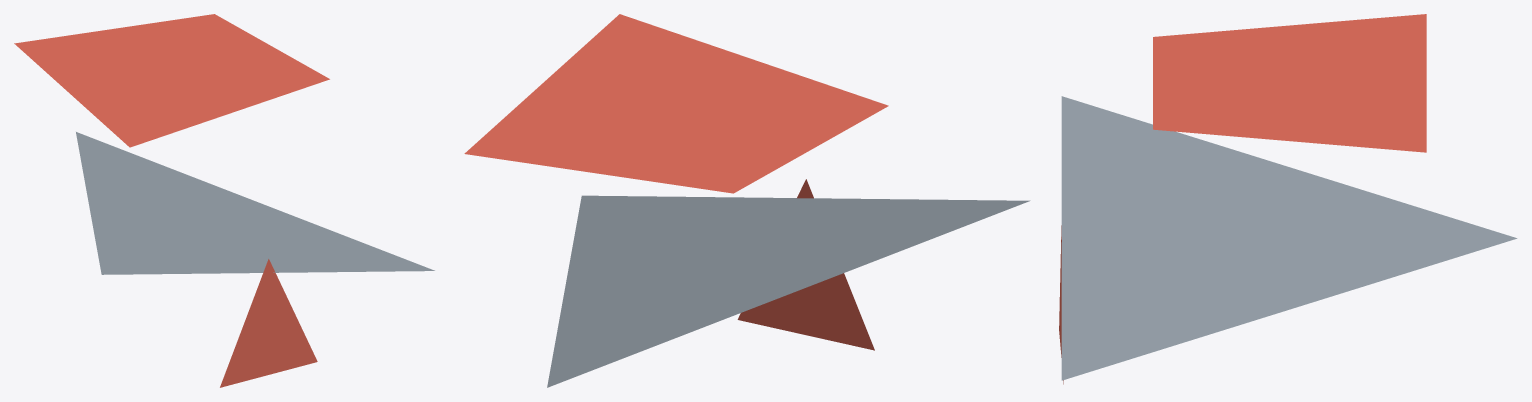
Rendered from SU_PowerPlant_LOD2.glb.
3 views of the same model, side by side, from view 1: azimuth 30°, elevation 25°; view 2: azimuth 150°, elevation 25°; view 3: azimuth 270°, elevation 25° (orthographic). The views are drawn at different scales.
Parts seen in each view (by area): view 1: EntranceGate; view 2: EntranceGate; view 3: EntranceGate.
Part boxes in pixels (left/top/right/bottom): EntranceGate: left=14, top=14, right=434, bottom=387; EntranceGate: left=464, top=14, right=1030, bottom=387; EntranceGate: left=1059, top=14, right=1517, bottom=384.
Bounding box in the file's own units: 600 × 417 × 603.
